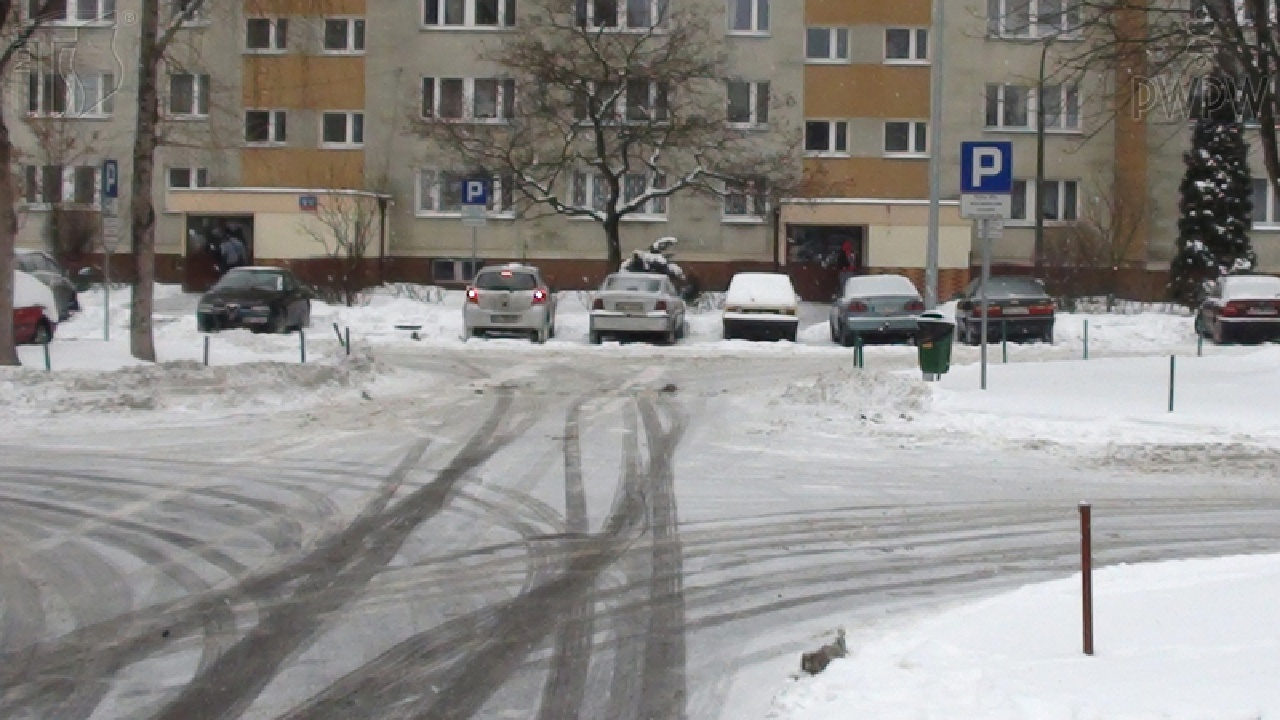D18: (959, 140, 1012, 193), (463, 178, 486, 204)
